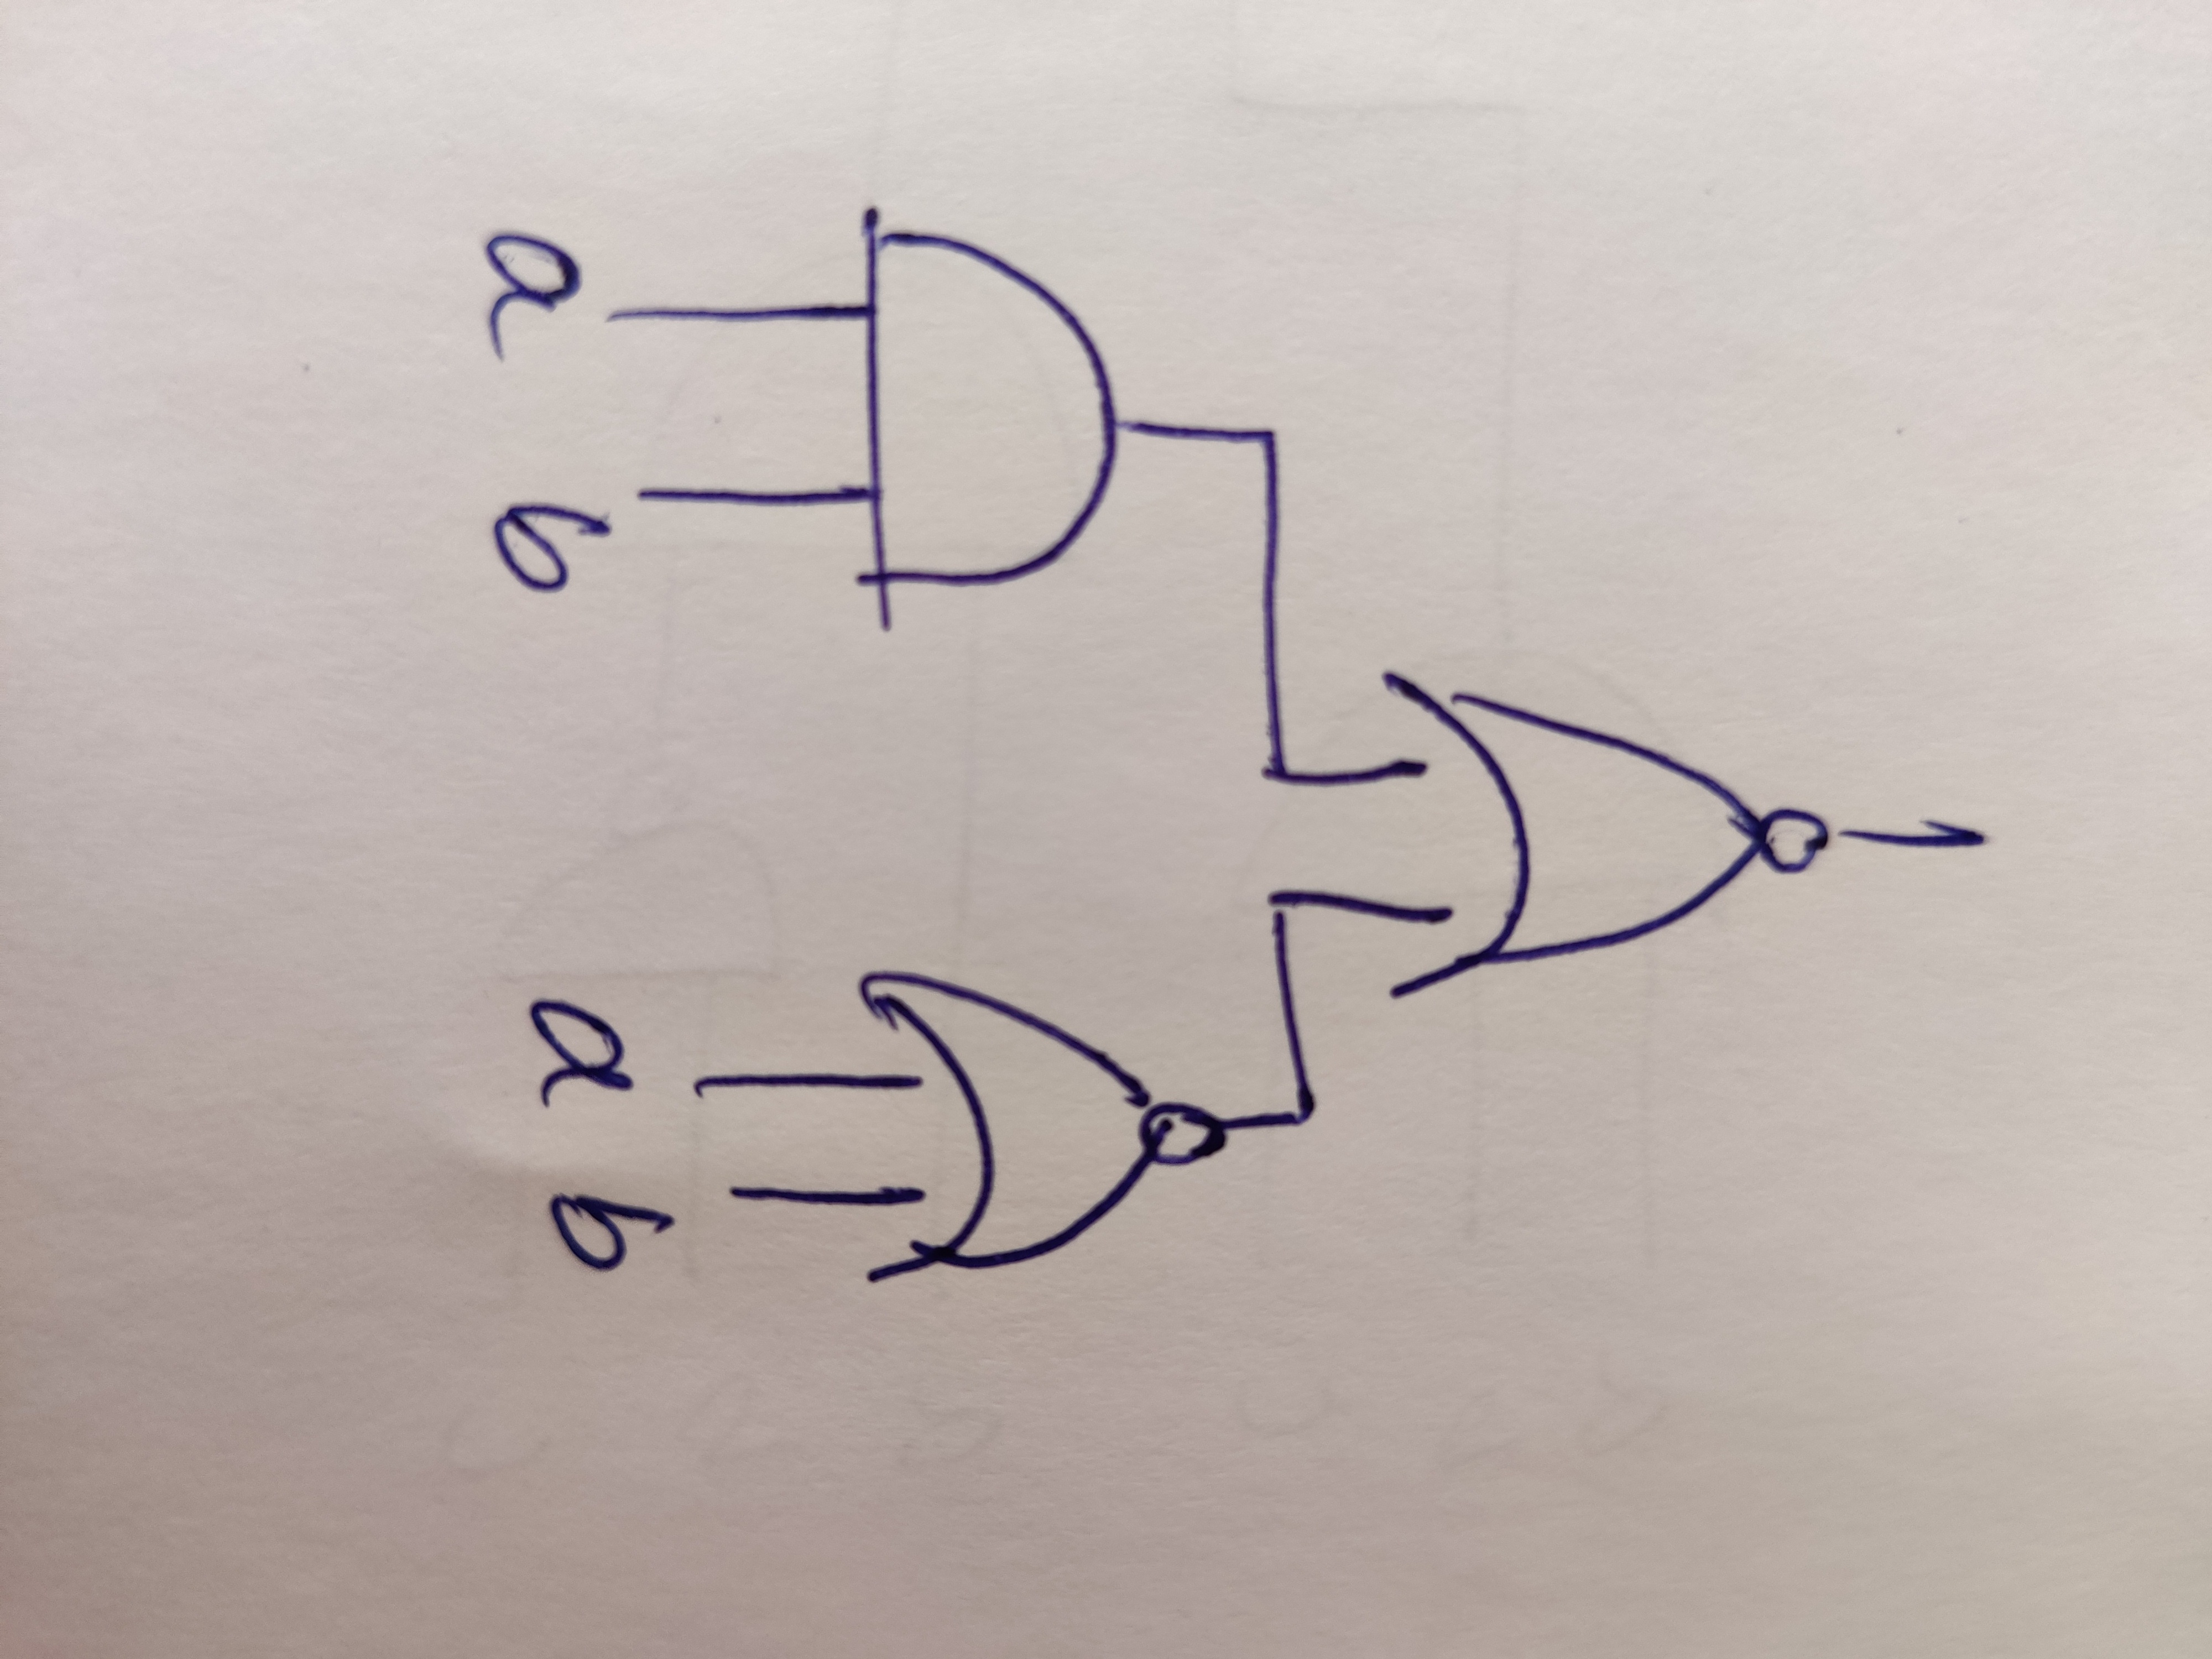and: (786, 145, 1158, 647)
nor: (1346, 613, 1878, 1075), (810, 880, 1258, 1349)
